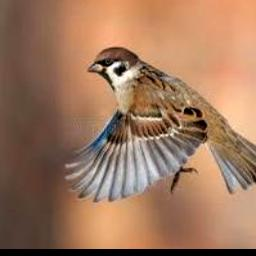Sparrow: (66, 47, 256, 202)
